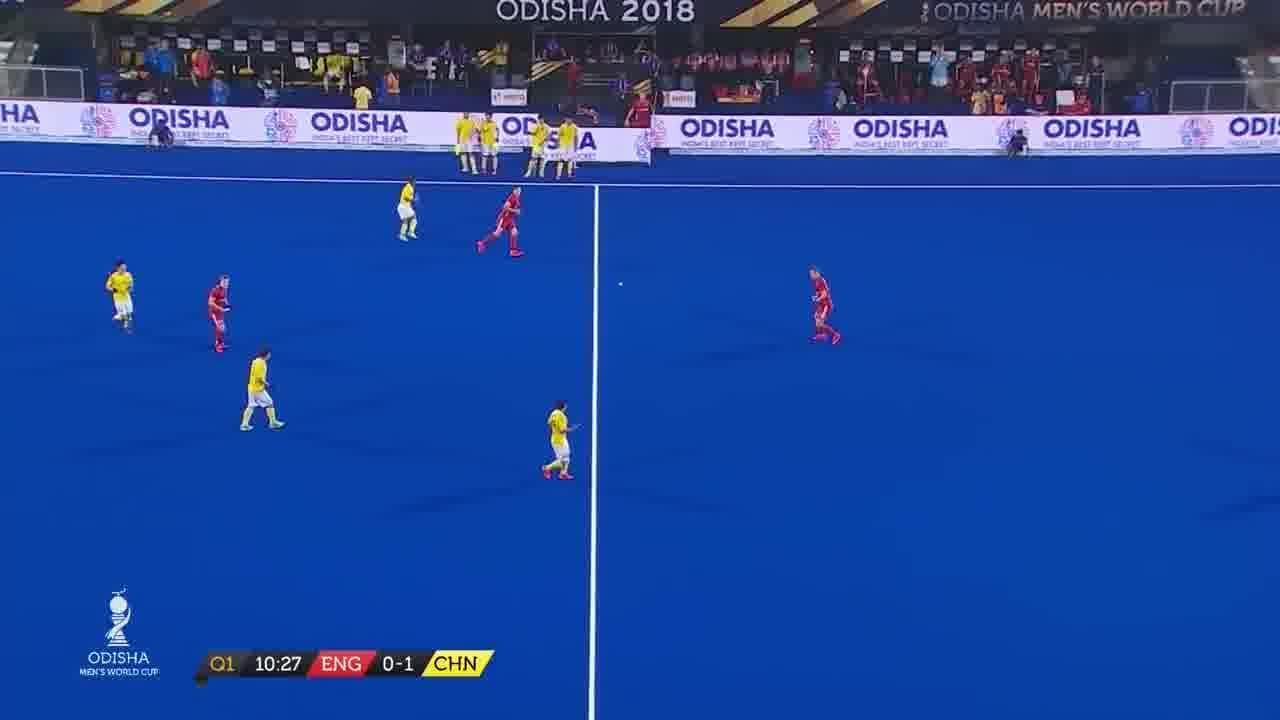ball: (616, 280, 624, 289)
